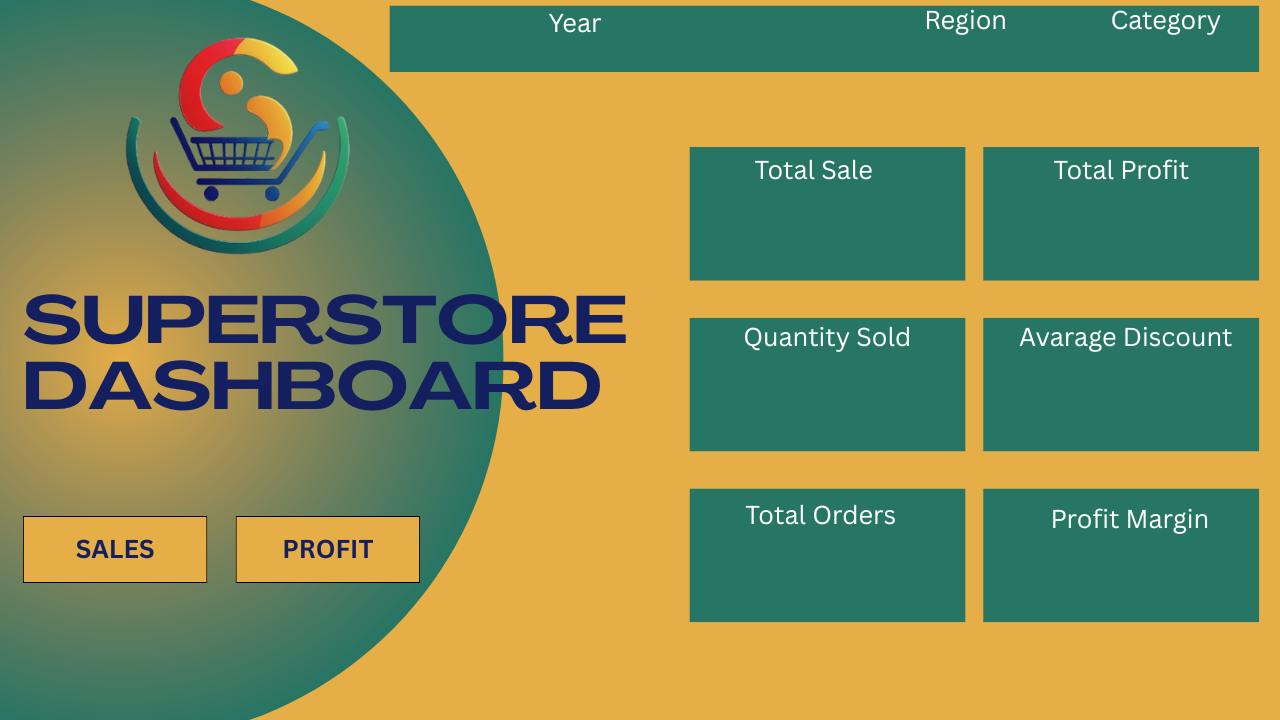

Layout of this report page (visuals, bound fields, positions):
{"tool":"powerbi","page":{"name":"Home","canvas":[1280,720],"ordinal":0},"visuals":[{"type":"card","fields":{"Values":["Sum(Sample.Sales)"]},"box":[718.6,181.4,215.1,84.9],"z":0},{"type":"card","fields":{"Values":["Sum(Sample.Profit)"]},"box":[1016.3,187.2,208.1,79.1],"z":1000},{"type":"card","fields":{"Values":["Sum(Sample.Quantity)"]},"box":[716.3,355.8,207,81.4],"z":2000},{"type":"card","fields":{"Values":["Sample.Avarage Discount"]},"box":[1033.7,360.5,212.8,70.9],"z":3000},{"type":"card","fields":{"Values":["Sample.Total orders"]},"box":[704.7,520.9,229.1,95.3],"z":4000},{"type":"card","fields":{"Values":["Sample.profit margin"]},"box":[1016.3,529.1,218.6,79.1],"z":5000},{"type":"slicer","fields":{"Values":["Sample.Category"]},"box":[1073.3,26.7,184.9,37.2],"z":6000},{"type":"slicer","fields":{"Values":["Sample.Region"]},"box":[888.4,26.7,184.9,47.7],"z":7000},{"type":"slicer","fields":{"Values":["year table.Year"]},"box":[372.1,24.4,488.4,50],"z":8000},{"type":"actionButton","box":[25,521.2,182.5,58.8],"z":8001},{"type":"actionButton","box":[238.8,521.2,178.8,47.5],"z":8002}]}

Visuals, with their boxes in screenshot pixels (x1, y1, x2, y2), scaled from the page's 1280x720 canvas onto the 1280x720 screenshot:
card - Sum(Sample.Sales): locate(719, 181, 934, 266)
card - Sum(Sample.Profit): locate(1016, 187, 1224, 266)
card - Sum(Sample.Quantity): locate(716, 356, 923, 437)
card - Sample.Avarage Discount: locate(1034, 360, 1246, 431)
card - Sample.Total orders: locate(705, 521, 934, 616)
card - Sample.profit margin: locate(1016, 529, 1235, 608)
slicer - Sample.Category: locate(1073, 27, 1258, 64)
slicer - Sample.Region: locate(888, 27, 1073, 74)
slicer - year table.Year: locate(372, 24, 860, 74)
actionButton: locate(25, 521, 208, 580)
actionButton: locate(239, 521, 418, 569)
